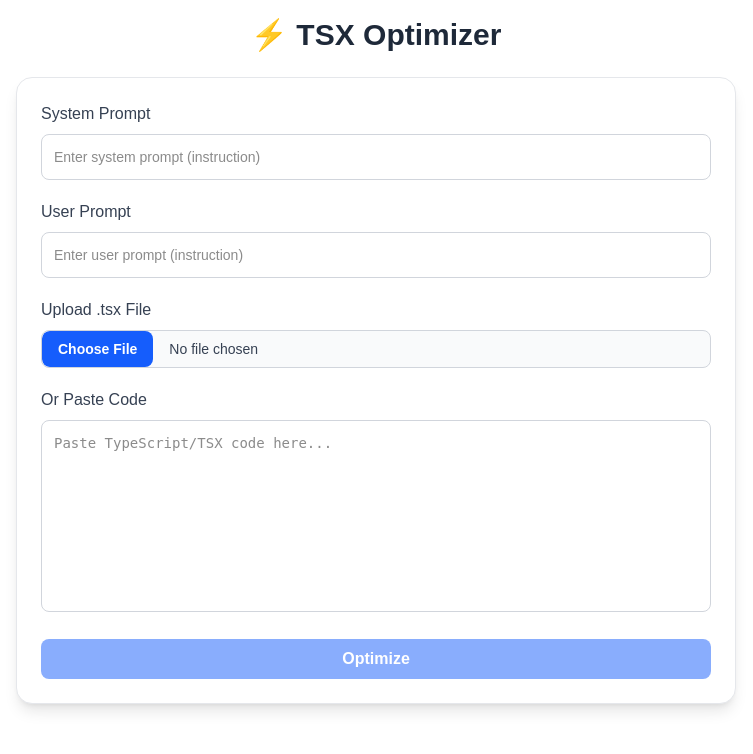
CodeOptimizer › renders backend error from axios response
Type "code" into the text box with placeholder "Paste TypeScript/TSX code here..." at (376, 516), box left=41, top=420, right=711, bottom=612
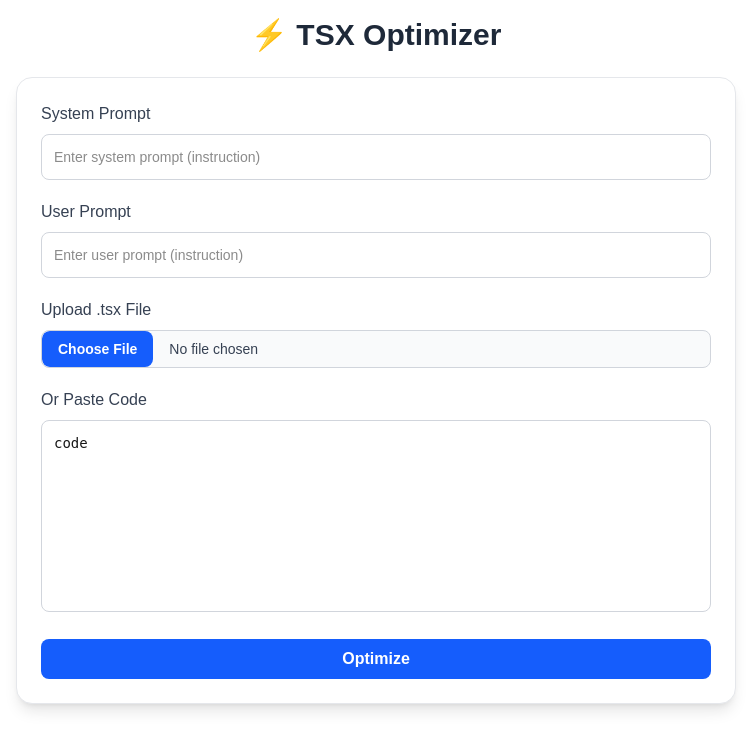
Click the button "Optimize" at (376, 659), box left=41, top=639, right=711, bottom=679
(page scrolled)
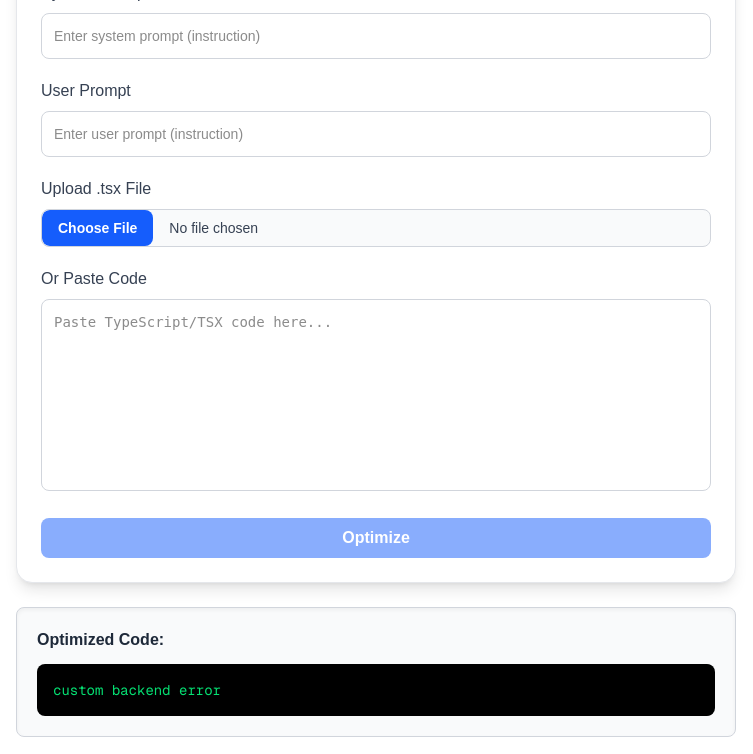
Check: the text "custom backend error" is shown, box left=37, top=664, right=715, bottom=716
